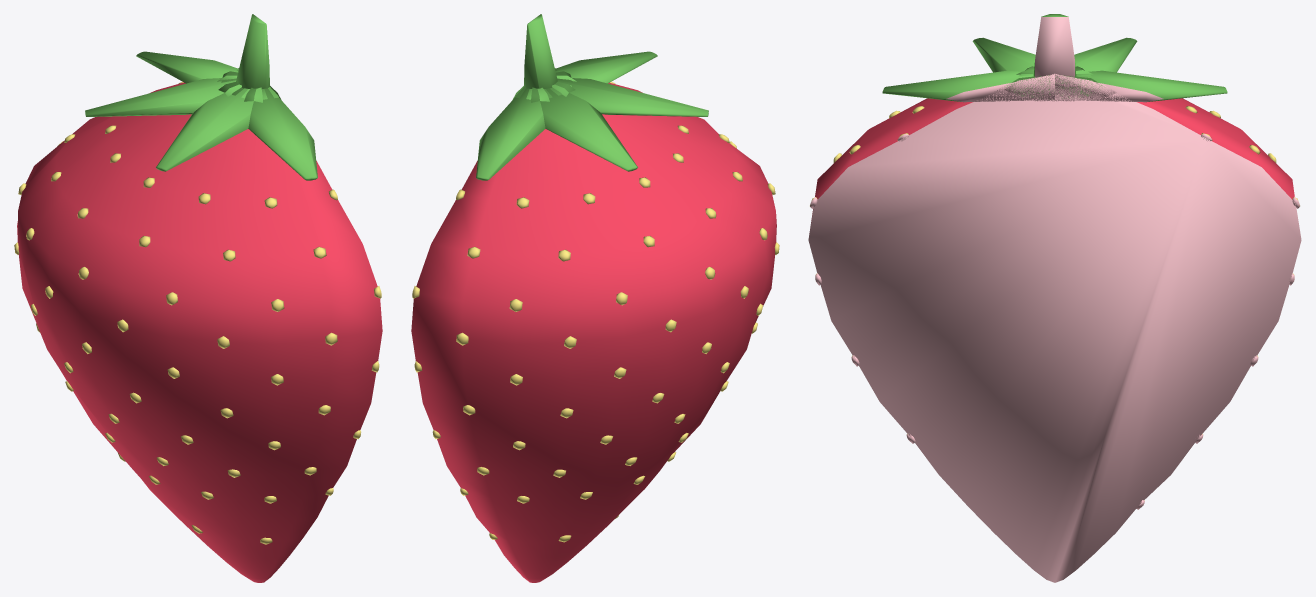
The model's file is Strawberry_Half_B.fbx.
The picture shows the model from 3 angles, left to right: view 1: azimuth 30°, elevation 25°; view 2: azimuth 150°, elevation 25°; view 3: azimuth 270°, elevation 25°; orthographic projection.
Parts seen in each view (by area): view 1: Strawberry_Half_B; view 2: Strawberry_Half_B; view 3: Strawberry_Half_B.
Boxes of the visible parts, box(x1,y1,x2,y2) form: Strawberry_Half_B: box(14, 14, 382, 582); Strawberry_Half_B: box(411, 14, 779, 582); Strawberry_Half_B: box(808, 14, 1301, 582).
Bounding box in the file's own units: 0.4787 × 1.21 × 0.9556.
